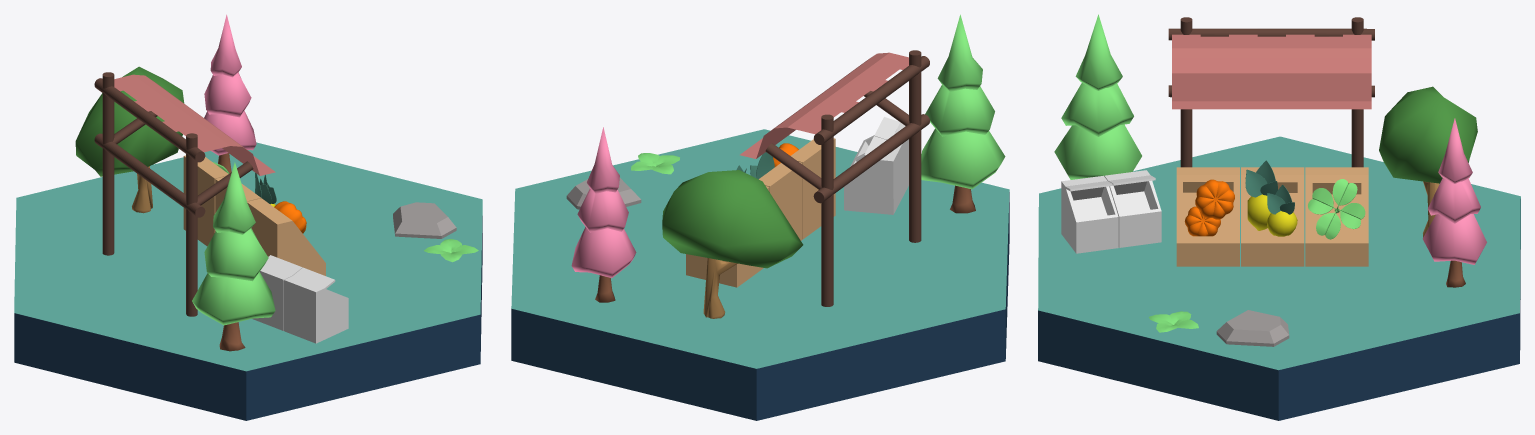
Rendered from Macro - market lv1 wm1.fbx.
The picture shows the model from 3 angles, left to right: view 1: azimuth 30°, elevation 25°; view 2: azimuth 150°, elevation 25°; view 3: azimuth 270°, elevation 25°; orthographic projection. The views are drawn at different scales.
Parts seen in each view (by area): view 1: Cylinder.154, Tree_Spruce_tiny_01.003, tree1 v:88 f:56, Tree_Spruce_tiny_01.008, Plane.112, Cube.001, Cube.140, Cylinder.039, Cylinder.038, Rock Type4 04 mesh.002, Cylinder.041, Cylinder.040 (+5 smaller); view 2: Cylinder.154, tree1 v:88 f:56, Tree_Spruce_tiny_01.003, Tree_Spruce_tiny_01.008, Plane.112, Cube.002, Cylinder.038, Cylinder.039, Cube.141, Cube.140, Cylinder.040, Cylinder.041 (+5 smaller); view 3: Cylinder.154, Plane.112, Tree_Spruce_tiny_01.003, tree1 v:88 f:56, Tree_Spruce_tiny_01.008, Cube.140, Cube.142, Cube.001, Cube.141, Cube.002, Rock Type4 04 mesh.002, Cylinder.040 (+11 smaller).
Boxes of the visible parts, x1,y1,x2,y2 form: Cylinder.154: (14, 142, 482, 420); Tree_Spruce_tiny_01.003: (192, 162, 275, 351); tree1 v:88 f:56: (75, 66, 184, 213); Tree_Spruce_tiny_01.008: (204, 14, 256, 173); Plane.112: (114, 74, 275, 175); Cube.001: (284, 267, 348, 343); Cube.140: (247, 198, 325, 275); Cylinder.039: (102, 72, 114, 255); Cylinder.038: (186, 133, 197, 316); Rock Type4 04 mesh.002: (393, 202, 456, 238); Cylinder.041: (94, 133, 205, 217); Cylinder.040: (94, 78, 205, 162); Cylinder.154: (511, 129, 1009, 420); tree1 v:88 f:56: (662, 170, 803, 318); Tree_Spruce_tiny_01.003: (921, 14, 1005, 213); Tree_Spruce_tiny_01.008: (571, 127, 636, 302); Plane.112: (740, 52, 908, 158); Cube.002: (844, 136, 903, 214); Cylinder.038: (909, 50, 921, 242); Cylinder.039: (821, 114, 833, 306); Cube.141: (759, 162, 802, 240); Cube.140: (791, 138, 835, 238); Cylinder.040: (813, 56, 929, 144); Cylinder.041: (813, 114, 929, 203); Cylinder.154: (1038, 136, 1520, 420); Plane.112: (1172, 34, 1371, 109); Tree_Spruce_tiny_01.003: (1054, 14, 1141, 179); tree1 v:88 f:56: (1379, 86, 1477, 237); Tree_Spruce_tiny_01.008: (1422, 118, 1486, 287); Cube.140: (1176, 167, 1239, 266); Cube.142: (1305, 167, 1368, 266); Cube.001: (1061, 175, 1118, 253); Cube.141: (1241, 167, 1304, 266); Cube.002: (1104, 170, 1161, 247); Rock Type4 04 mesh.002: (1216, 310, 1289, 346); Cylinder.040: (1168, 28, 1374, 40).
Size of the model in its own units: 197 by 94.23 by 172.
